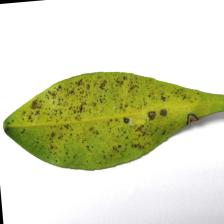canker: (22, 83, 203, 140)
